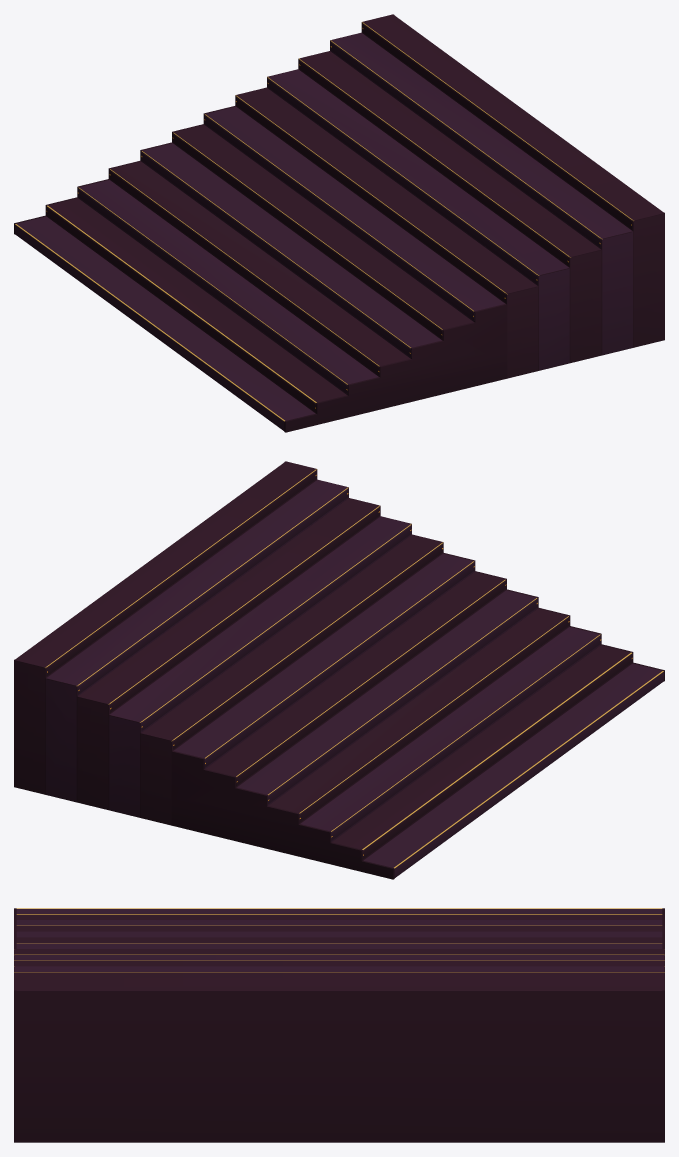
Rendered from SM_Cinema_SeatingTiers.fbx.
3 views of the same model, one above another, from view 1: azimuth 30°, elevation 25°; view 2: azimuth 150°, elevation 25°; view 3: azimuth 270°, elevation 25° (orthographic). The views are drawn at different scales.
Visible parts, largest first — view 1: SM_Cinema_SeatingTiers; view 2: SM_Cinema_SeatingTiers; view 3: SM_Cinema_SeatingTiers.
Part boxes in pixels (bbox=[...]): SM_Cinema_SeatingTiers: bbox=[14, 14, 664, 432]; SM_Cinema_SeatingTiers: bbox=[14, 461, 664, 879]; SM_Cinema_SeatingTiers: bbox=[14, 908, 664, 1142].
Size of the model in its own units: 1200 by 384 by 1488.
